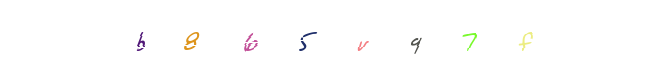5: (241, 0, 321, 80)
6: (239, 0, 319, 80)
7: (385, 0, 465, 80)
8: (237, 0, 317, 80)
B: (151, 0, 231, 80)
F: (431, 0, 511, 80)
Q: (295, 0, 375, 80)
V: (268, 0, 348, 80)
